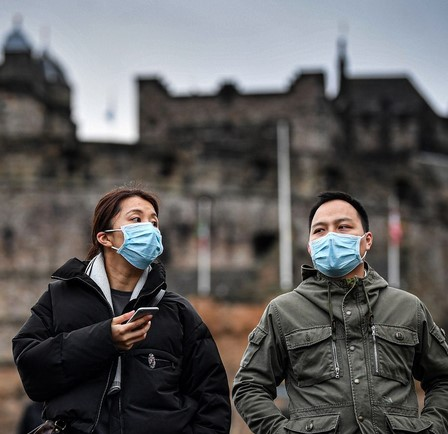face_with_mask: (98, 192, 162, 268), (311, 197, 372, 275)
